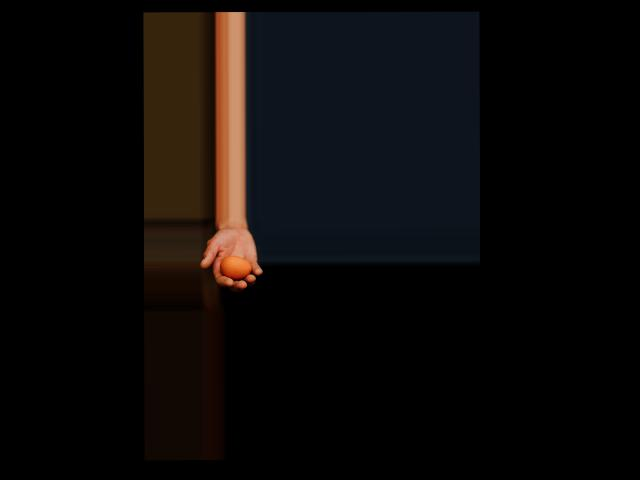egg: (220, 255, 252, 278)
